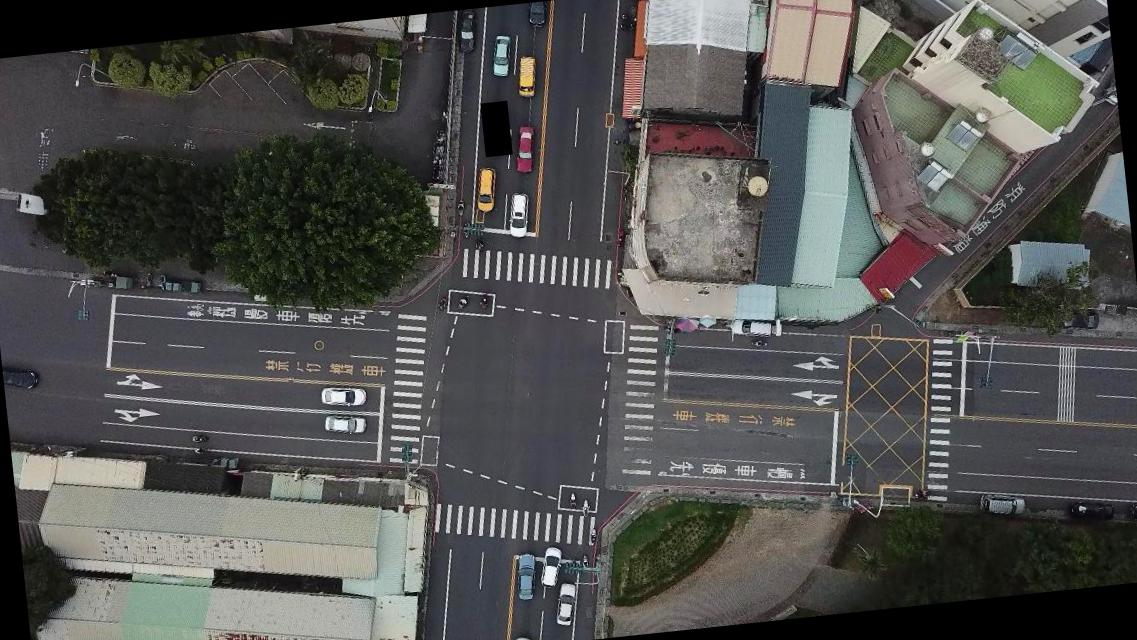vehicle: (730, 312, 785, 344), (510, 124, 540, 174), (1068, 494, 1118, 524), (318, 382, 369, 411), (979, 487, 1026, 518), (504, 190, 533, 238), (472, 165, 500, 213), (513, 552, 541, 600), (2, 362, 40, 394), (489, 32, 515, 78), (454, 8, 480, 54), (538, 546, 566, 588), (552, 581, 578, 626), (322, 411, 368, 436), (514, 54, 539, 97), (524, 1, 552, 30), (1126, 502, 1136, 523)
